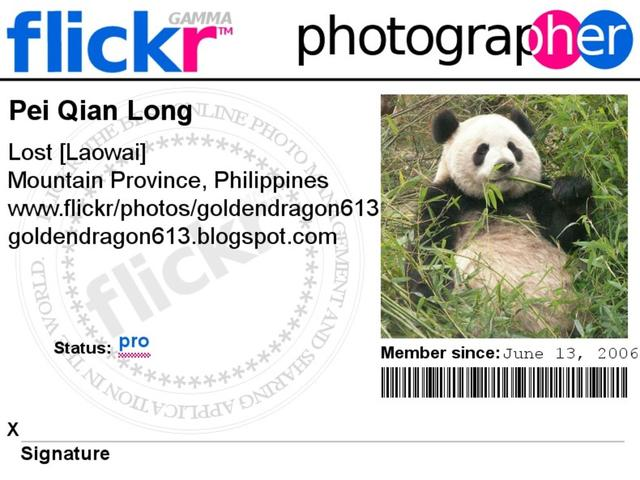panda: (391, 107, 613, 340)
